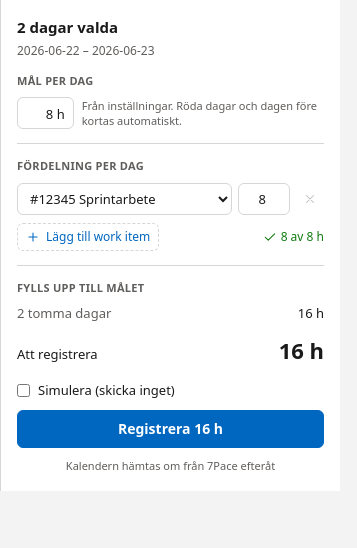
Test: SelectionPanel › blocks registering until the lines sum to the daily target
Click the button "Lägg till work item". click: (88, 236)
box: [17,222,159,250]
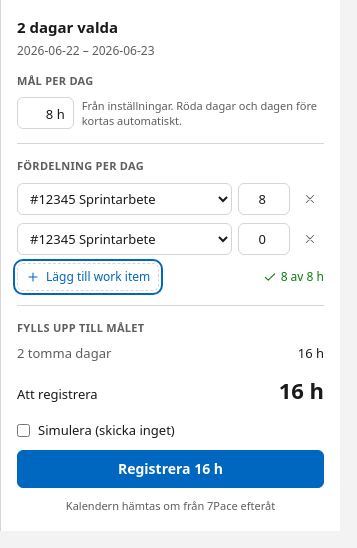
Note: The new line starts at 0 h, so the split now sums to 8 of 8 and stays balanced.
Replace the text in the number field named "timmar för rad 1" with "5". click: (264, 198)
box: [238,182,290,214]
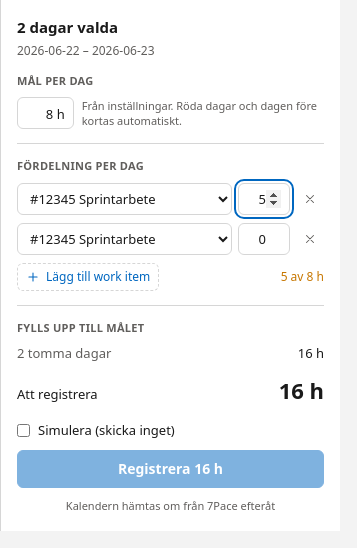
Expected: the button "Registrera 16 h" is disabled, [17,450,324,488]
Expected: the text "5 av 8 h" is shown, [281,268,324,284]
